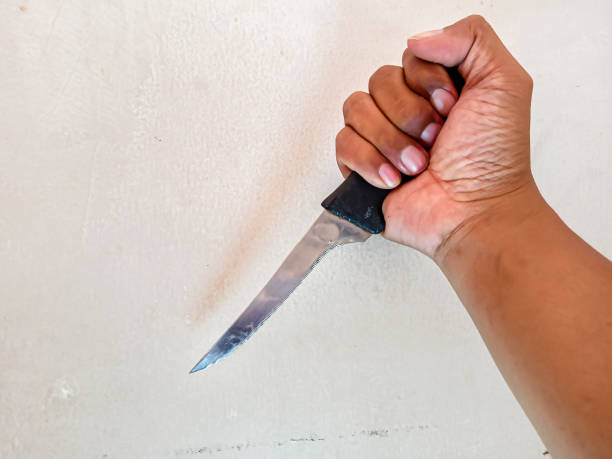knife: (185, 168, 390, 377)
